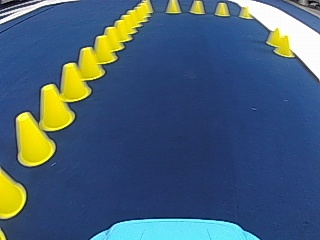cone: (14, 113, 54, 166), (37, 84, 73, 130), (0, 168, 26, 217), (57, 61, 88, 100), (75, 47, 103, 80), (92, 33, 116, 64), (102, 26, 121, 53), (273, 33, 293, 57), (112, 18, 130, 43), (108, 23, 125, 48), (266, 28, 282, 47), (214, 2, 229, 17), (190, 0, 204, 14), (166, 0, 181, 13), (239, 6, 251, 18)
